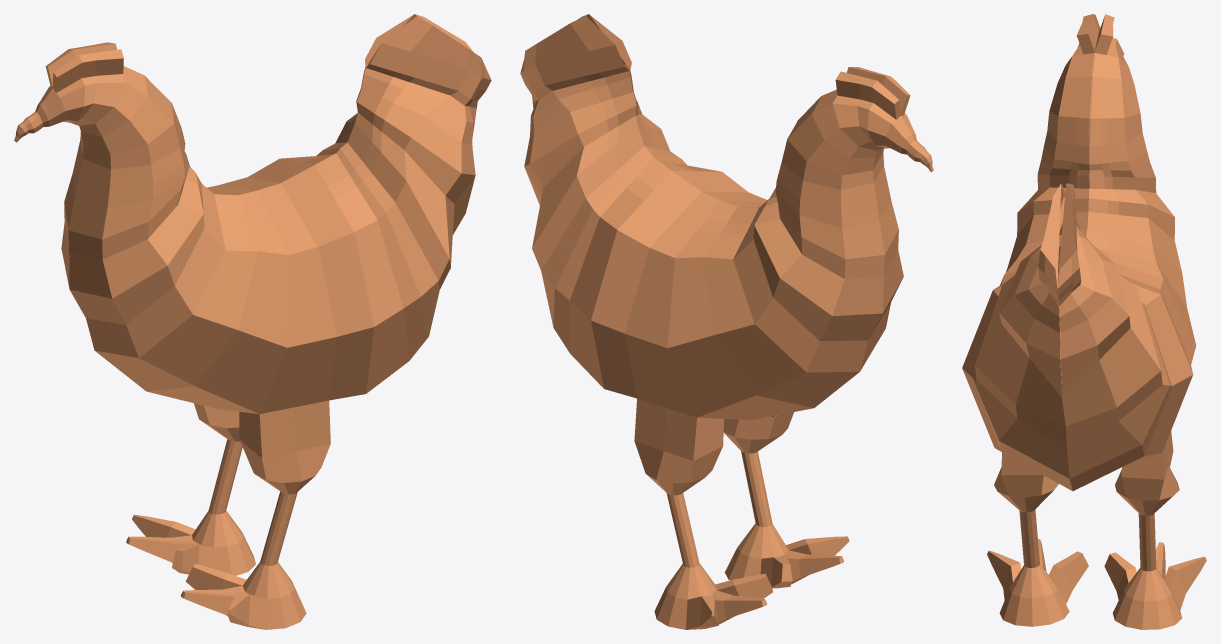
File: polla.glb
The picture shows the model from 3 angles, left to right: view 1: azimuth 30°, elevation 25°; view 2: azimuth 150°, elevation 25°; view 3: azimuth 270°, elevation 25°; orthographic projection. The views are drawn at different scales.
Parts seen in each view (by area): view 1: Cubo.001; view 2: Cubo.001; view 3: Cubo.001.
Boxes of the visible parts, left/top/right/bottom form: Cubo.001: left=14, top=14, right=491, bottom=629; Cubo.001: left=520, top=14, right=933, bottom=629; Cubo.001: left=962, top=14, right=1206, bottom=629.
Size of the model in its own units: 1.12 by 1.37 by 0.5726.
